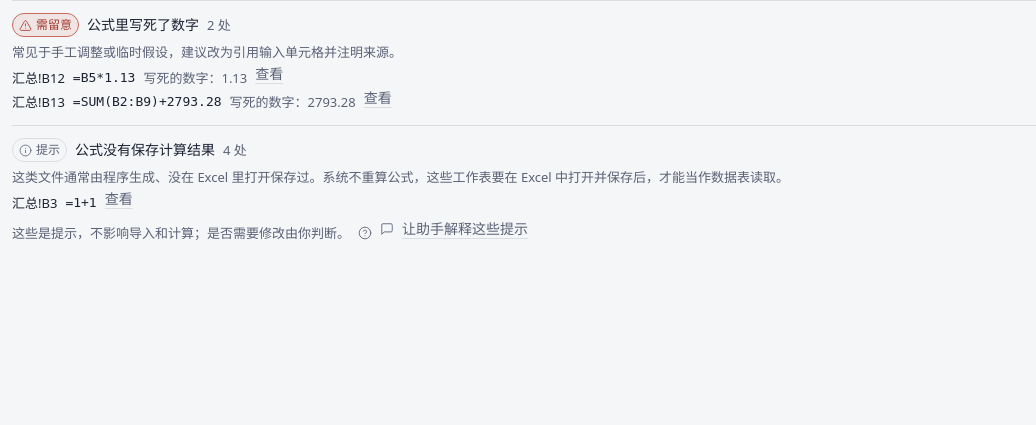
Test: opens the original cell and its surroundings from 查看
Click the button with aria-label "查看 汇总!B12": x=269, y=74 [255,67,283,81]
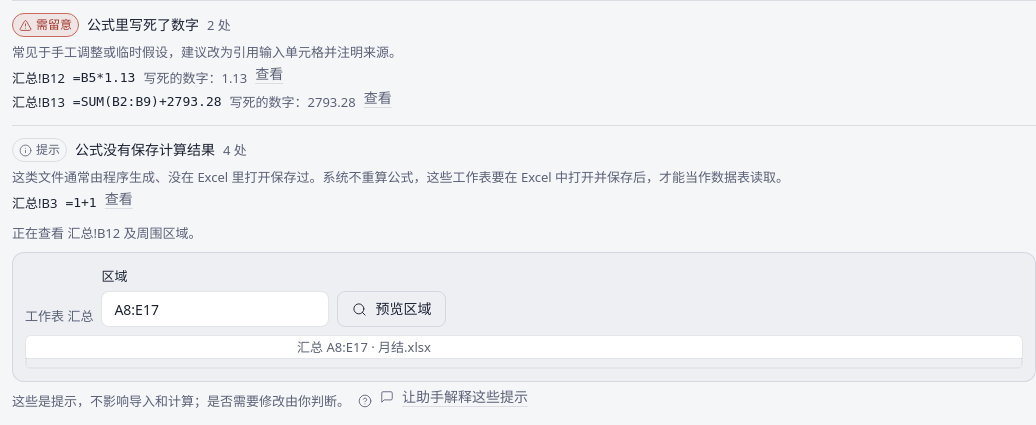
Check: the text "正在查看 汇总!B12 及周围区域。" is shown, box [12,224,202,242]
Check: the element named "工作簿区域预览 汇总 A8:E17" is shown, box [12,252,1035,382]
